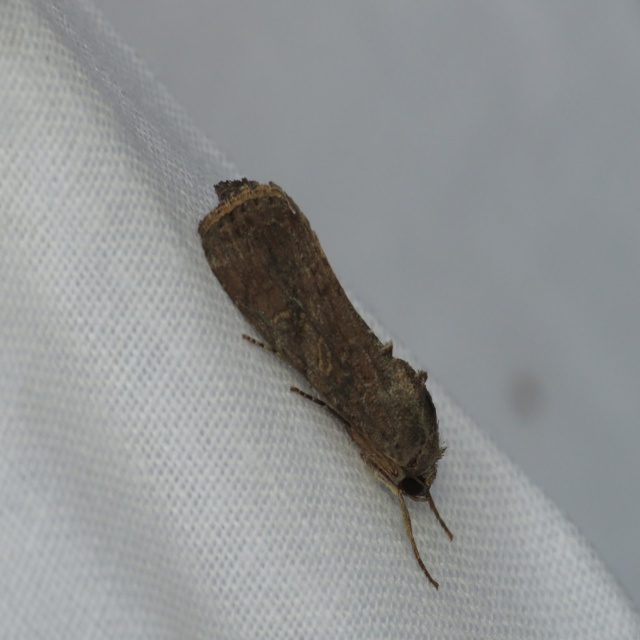Moths and butterflies: (198, 173, 457, 590)
